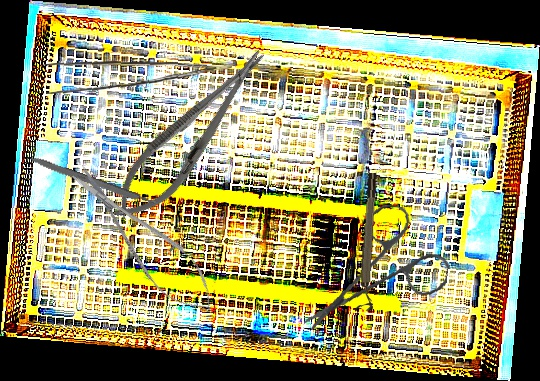Fixation Ring: (354, 172, 385, 312)
Iris Scissors: (303, 195, 457, 348)
Micro Scissor: (59, 154, 228, 326)
Needle Holder: (98, 35, 284, 236)
Scalpel Handle: (26, 154, 157, 209)
Tissue Forceps: (37, 57, 233, 101)
